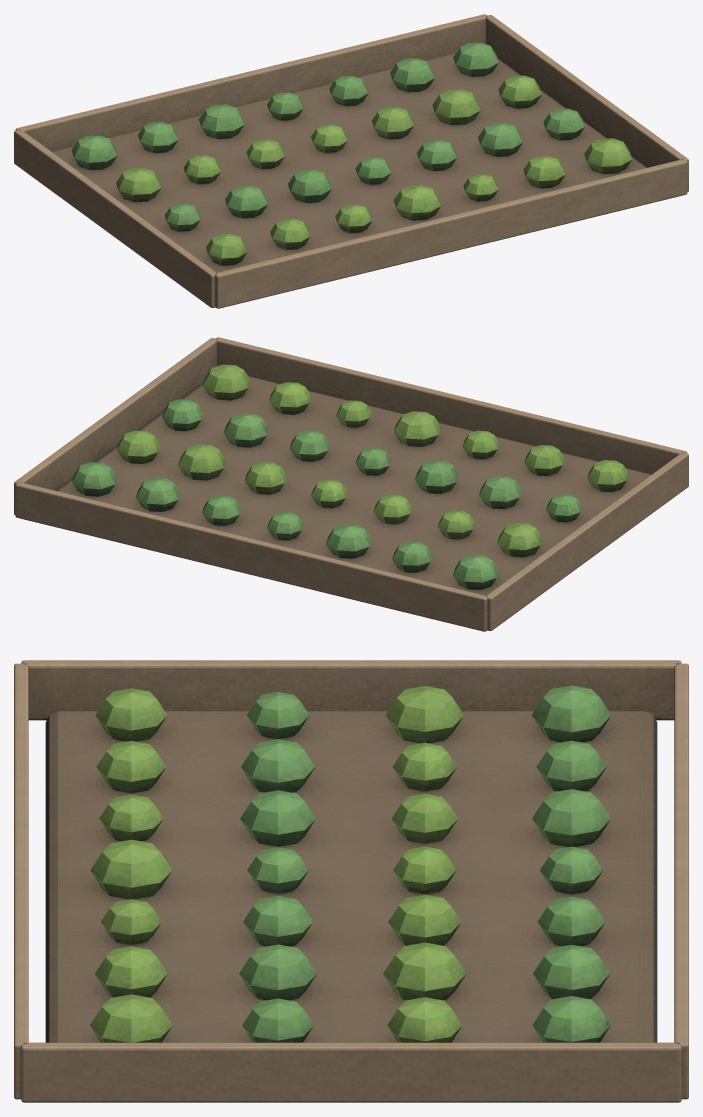
Rendered from p_beet.glb.
3 views of the same model, one above another, from view 1: azimuth 30°, elevation 25°; view 2: azimuth 150°, elevation 25°; view 3: azimuth 270°, elevation 25° (orthographic). The views are drawn at different scales.
Parts seen in each view (by area): view 1: p_beet; view 2: p_beet; view 3: p_beet.
Part boxes in pixels (bbox=[...]): p_beet: bbox=[14, 14, 688, 308]; p_beet: bbox=[14, 337, 688, 631]; p_beet: bbox=[14, 660, 688, 1102].
Bounding box in the file's own units: 0.752 × 0.0589 × 0.552.
1 material, 1 textured.
